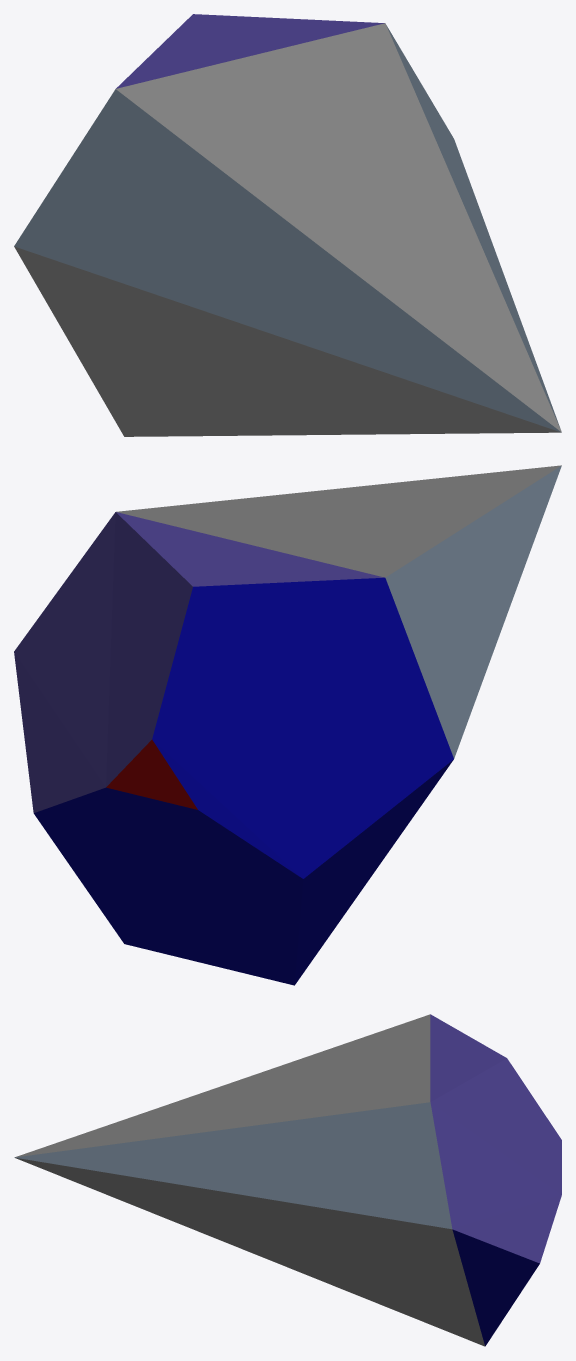
Rendered from boa.obj.
3 views of the same model, one above another, from view 1: azimuth 30°, elevation 25°; view 2: azimuth 150°, elevation 25°; view 3: azimuth 270°, elevation 25° (orthographic). The views are drawn at different scales.
Bounding box in the file's own units: 124 × 105 × 200.
